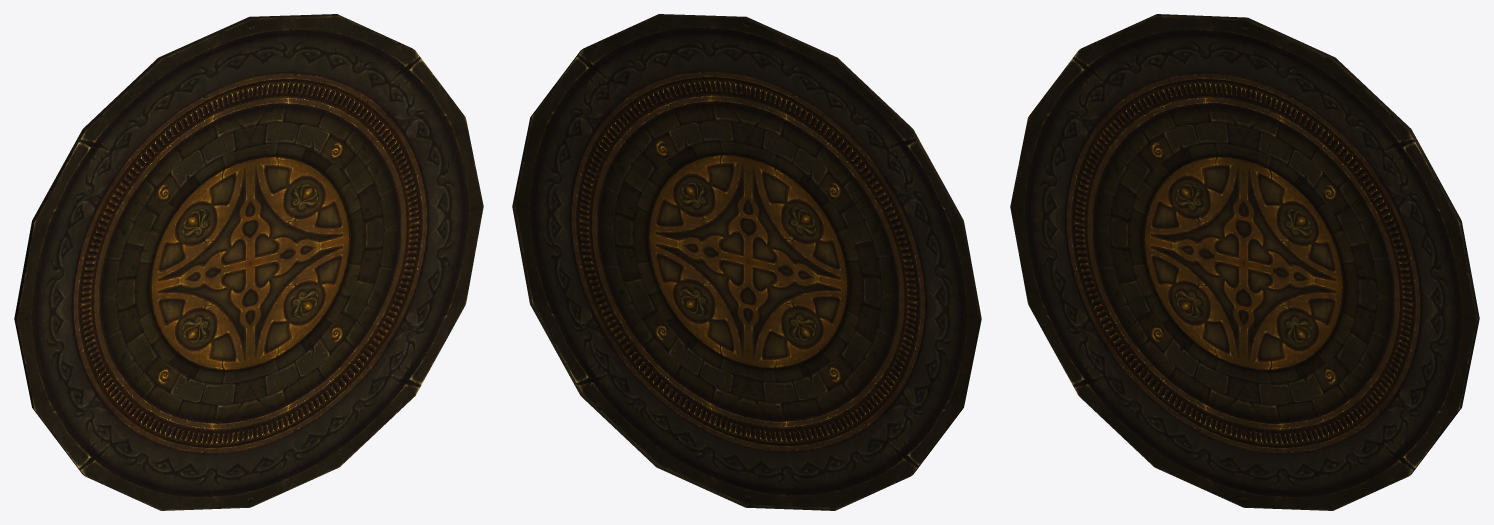
File: juqing_fuben_292_dizhuan_01.obj
3 views of the same model, side by side, from view 1: azimuth 30°, elevation 25°; view 2: azimuth 150°, elevation 25°; view 3: azimuth 330°, elevation 25° (orthographic).
Visible parts, largest first — view 1: zhanchang_fuben_259_dizhuan_02; view 2: zhanchang_fuben_259_dizhuan_02; view 3: zhanchang_fuben_259_dizhuan_02.
Boxes of the visible parts, bbox=[...] form: zhanchang_fuben_259_dizhuan_02: bbox=[14, 14, 483, 510]; zhanchang_fuben_259_dizhuan_02: bbox=[512, 14, 981, 510]; zhanchang_fuben_259_dizhuan_02: bbox=[1010, 14, 1479, 510].
Bounding box in the file's own units: 1165 × 1165 × 11.56.
Materials: 1 (1 with a texture image).
